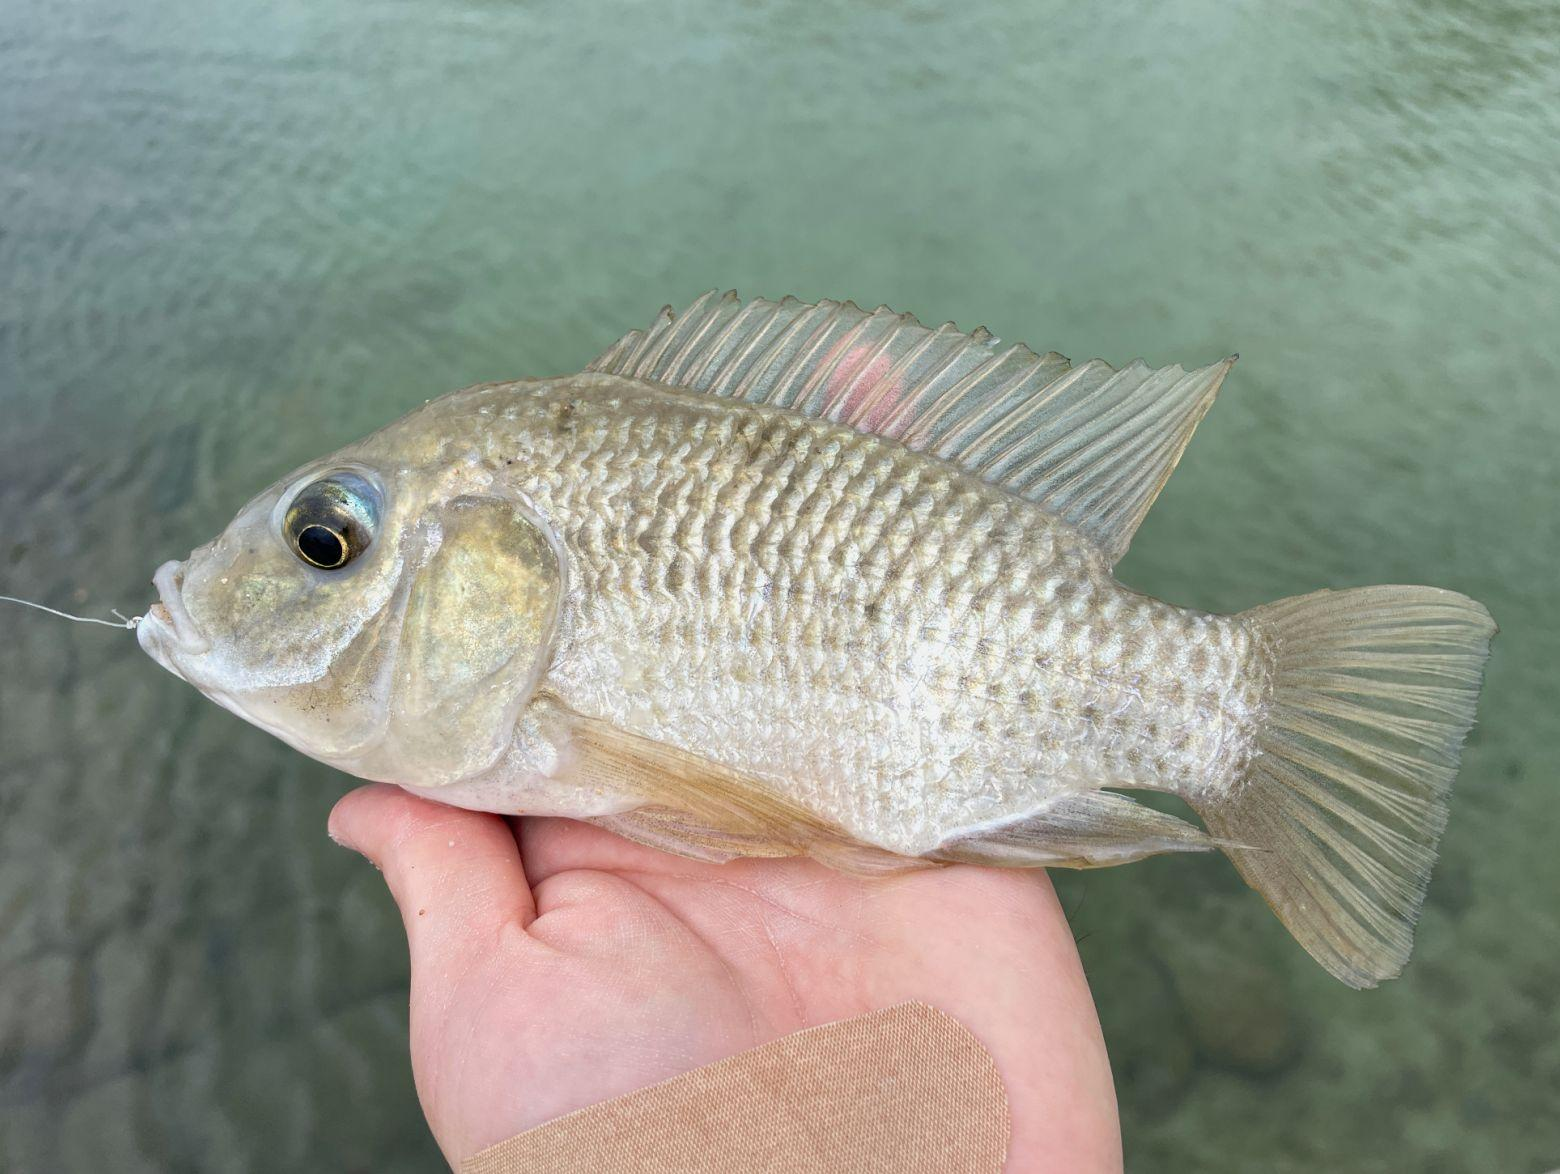Tilapia: (145, 290, 1507, 993)
